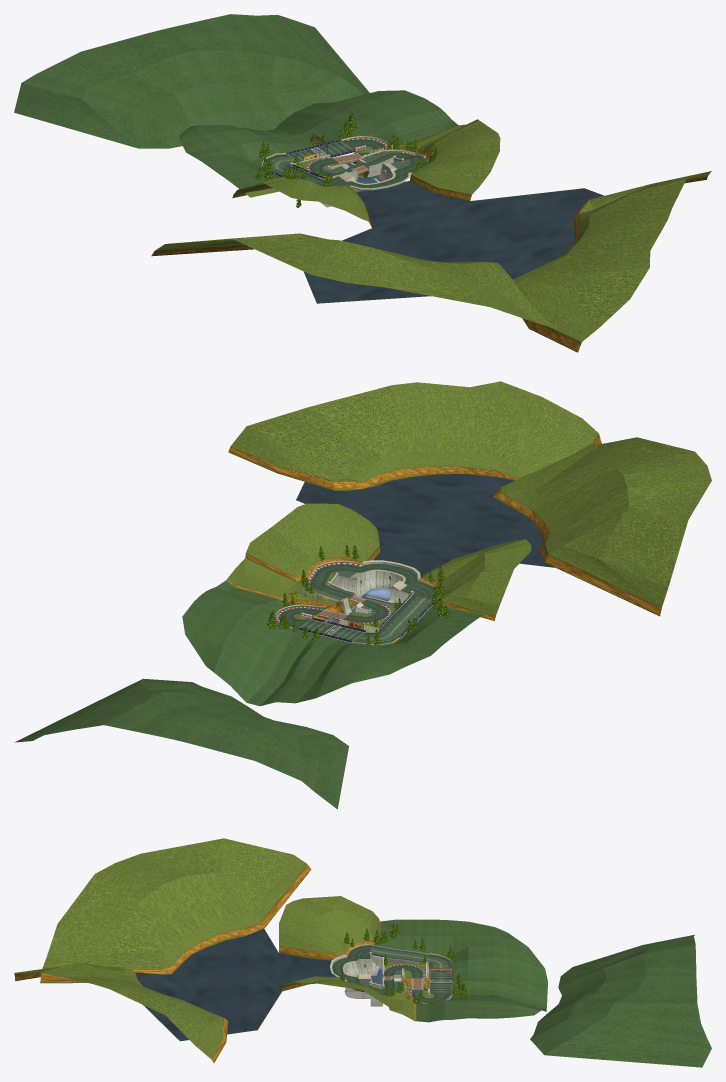
3 renders of one model, top to bottom at view 1: azimuth 30°, elevation 25°; view 2: azimuth 150°, elevation 25°; view 3: azimuth 270°, elevation 25°, orthographic. The views are drawn at different scales.
Visible parts, largest first — view 1: groupShape60_014, groupShape60_017, groupShape60_029, polySurfaceShape61_005, groupShape60_016, groupShape60_028, polySurfaceShape61_013, groupShape60_027, groupShape60_021, groupShape60_019, polySurfaceShape61_006, groupShape60_004 (+2 smaller); view 2: groupShape60_017, polySurfaceShape61_005, groupShape60_014, groupShape60_029, groupShape60_016, groupShape60_021, polySurfaceShape61_013, groupShape60_019, polySurfaceShape61_006, groupShape60_028, groupShape60_027, groupShape60_006 (+3 smaller); view 3: groupShape60_017, groupShape60_014, polySurfaceShape61_005, groupShape60_029, groupShape60_016, groupShape60_019, polySurfaceShape61_013, groupShape60_028, groupShape60_027, polySurfaceShape61_006, polySurfaceShape61_008, groupShape60_021 (+3 smaller).
Part boxes in pixels (<box>): groupShape60_014: <box>14,14,369,148</box>; groupShape60_017: <box>172,119,711,341</box>; groupShape60_029: <box>304,188,604,303</box>; polySurfaceShape61_005: <box>179,90,458,188</box>; groupShape60_016: <box>155,144,592,328</box>; groupShape60_028: <box>356,180,469,227</box>; polySurfaceShape61_013: <box>309,139,425,188</box>; groupShape60_027: <box>255,111,435,207</box>; groupShape60_021: <box>410,146,707,352</box>; groupShape60_019: <box>151,186,371,256</box>; polySurfaceShape61_006: <box>245,124,465,197</box>; groupShape60_004: <box>293,154,411,190</box>; groupShape60_017: <box>230,381,711,605</box>; polySurfaceShape61_005: <box>182,580,483,706</box>; groupShape60_014: <box>14,678,348,809</box>; groupShape60_029: <box>296,474,555,567</box>; groupShape60_016: <box>295,444,667,615</box>; groupShape60_021: <box>228,434,601,582</box>; polySurfaceShape61_013: <box>278,564,440,627</box>; groupShape60_019: <box>418,488,661,620</box>; polySurfaceShape61_006: <box>226,558,484,628</box>; groupShape60_028: <box>374,535,464,576</box>; groupShape60_027: <box>266,545,450,645</box>; groupShape60_006: <box>337,570,410,614</box>; groupShape60_017: <box>14,838,388,1059</box>; groupShape60_014: <box>530,935,711,1067</box>; polySurfaceShape61_005: <box>373,919,548,1022</box>; groupShape60_029: <box>135,929,282,1041</box>; groupShape60_016: <box>42,855,377,1017</box>; groupShape60_019: <box>40,864,379,983</box>; polySurfaceShape61_013: <box>332,945,451,1002</box>; groupShape60_028: <box>279,953,336,989</box>; groupShape60_027: <box>339,923,467,1003</box>; polySurfaceShape61_006: <box>370,921,433,1020</box>; polySurfaceShape61_008: <box>370,946,451,970</box>; groupShape60_021: <box>14,972,390,1062</box>.
Bounding box in the file's own units: 394 × 75.45 × 598.
38 materials, 38 textured.
